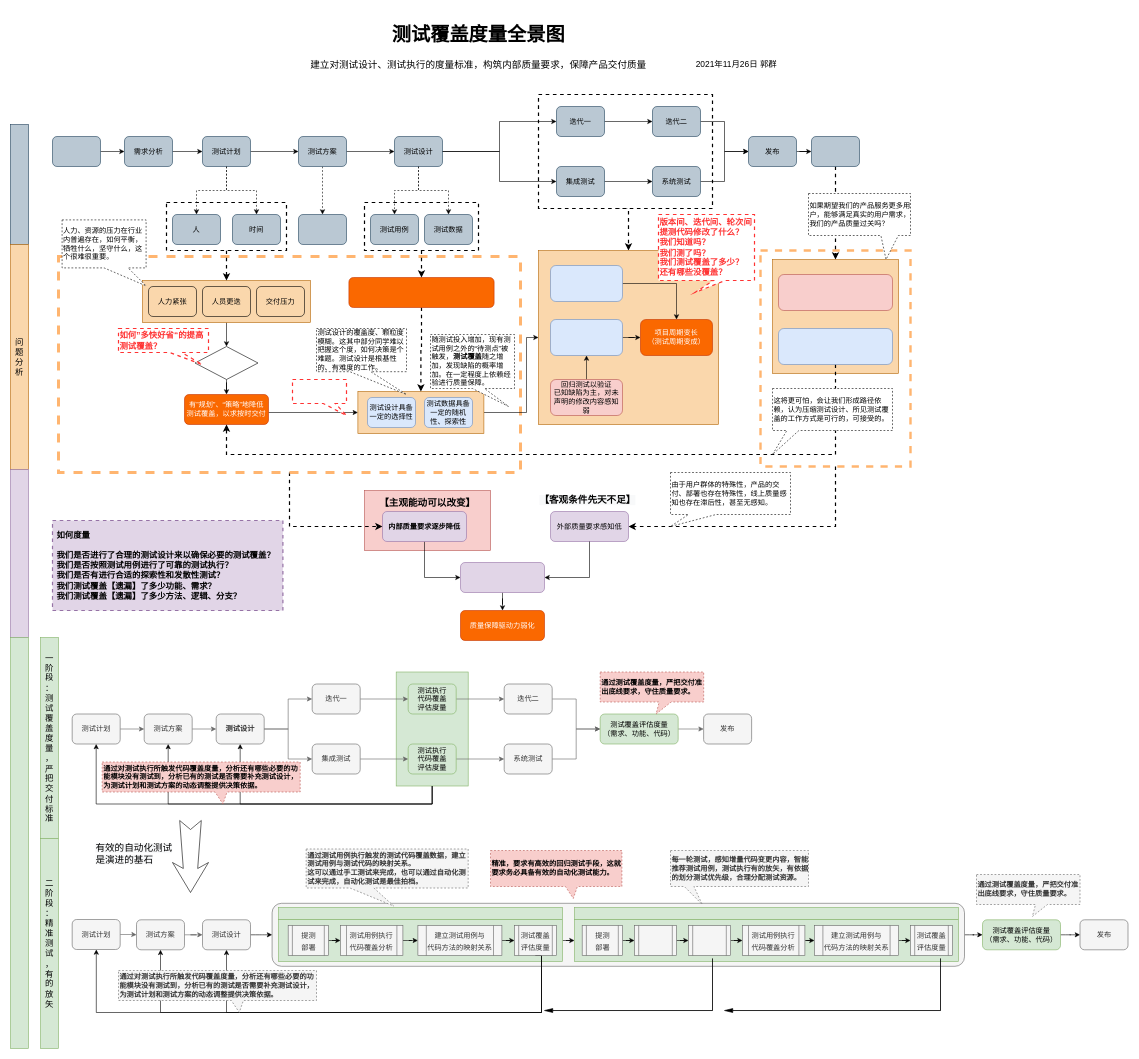
Image size: 1139x1059. Some labels were removed from this diagram. Each missing label, with the box of its shape:
人员测试设计能力不一，用例及数据设计要求标准不一，缺乏测试设计覆盖的客观评估手段: (348, 277, 494, 308)
代码变更 增量分析: (634, 925, 676, 956)
优 化 措 施: (10, 637, 28, 1048)
基 本 流 程: (10, 124, 28, 244)
应用: (811, 136, 860, 166)
技术: (298, 214, 346, 244)
推荐关联测试用例: (688, 925, 730, 956)
测试设计如何 优化改进？: (292, 379, 347, 416)
潜 在 问 题: (10, 469, 28, 638)
第一轮测试: (278, 907, 562, 920)
第二轮测试: (574, 907, 958, 920)
策略？: (194, 346, 258, 380)
线上用户数量少或使用频率低， 没发现问题: (778, 328, 892, 364)
缺陷数量随测试轮次增多，收敛效果差: (550, 319, 622, 356)
质量要求模糊: (460, 562, 544, 592)
随用户数量或使用频次的增加，出现问题的概率增加，比如上线一段时间后，发现系统存在问题: (778, 274, 892, 310)
需求澄清: (52, 136, 100, 166)
项目提测质量一般: (550, 265, 622, 302)
